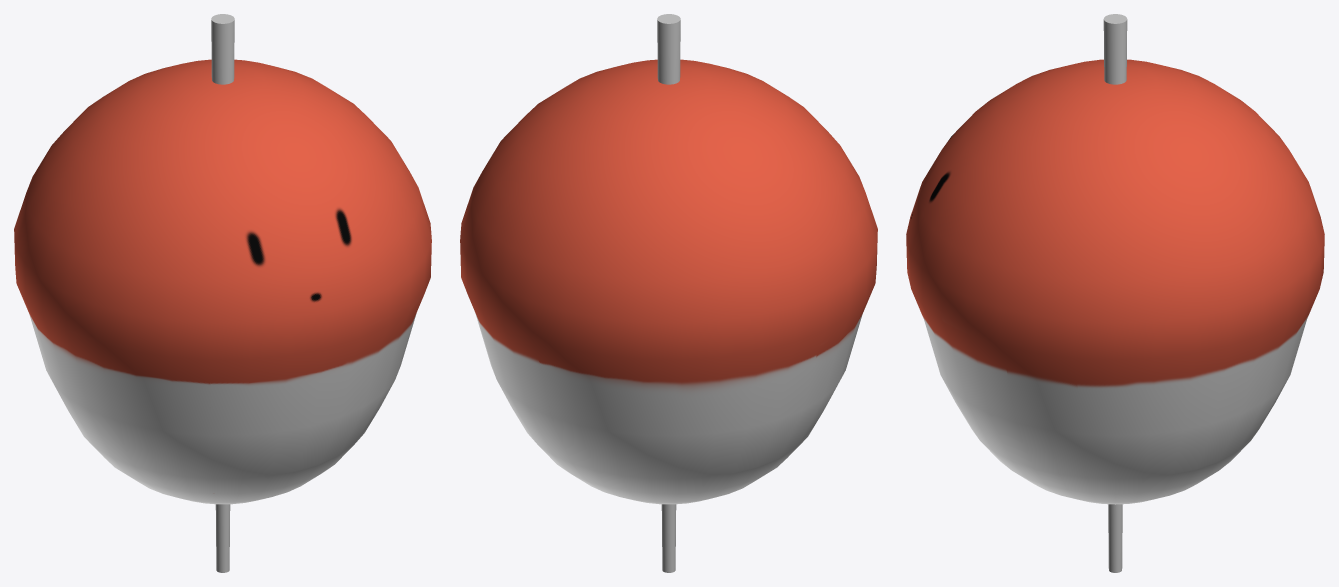
Rendered from fishing_float.fbx.
The picture shows the model from 3 angles, left to right: view 1: azimuth 30°, elevation 25°; view 2: azimuth 150°, elevation 25°; view 3: azimuth 270°, elevation 25°; orthographic projection.
Parts seen in each view (by area): view 1: Sphere, Cylinder; view 2: Sphere, Cylinder; view 3: Sphere, Cylinder.
Boxes of the visible parts, x1,y1,x2,y2 form: Sphere: (14,59,431,504); Cylinder: (211,14,234,572); Sphere: (460,59,877,504); Cylinder: (657,14,680,572); Sphere: (906,59,1324,504); Cylinder: (1103,14,1127,572).
Size of the model in its own units: 17.68 by 25.68 by 17.68.
